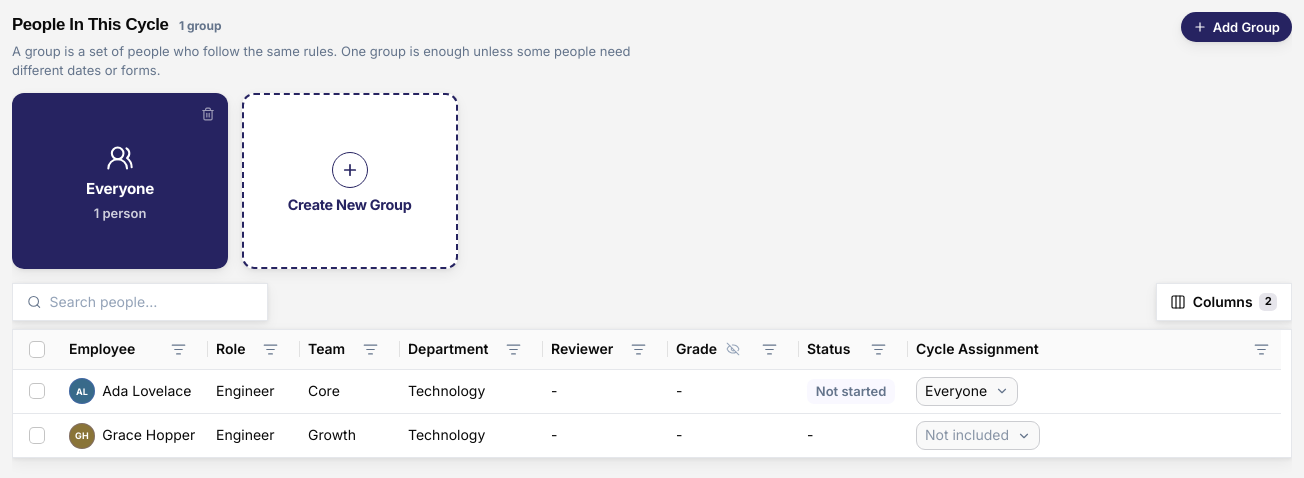
Test: CycleGroupsSection › filters the people table from the search field
Type "ada" into the search field labelled "Search people" at point(150, 302), box [48,290,253,313]
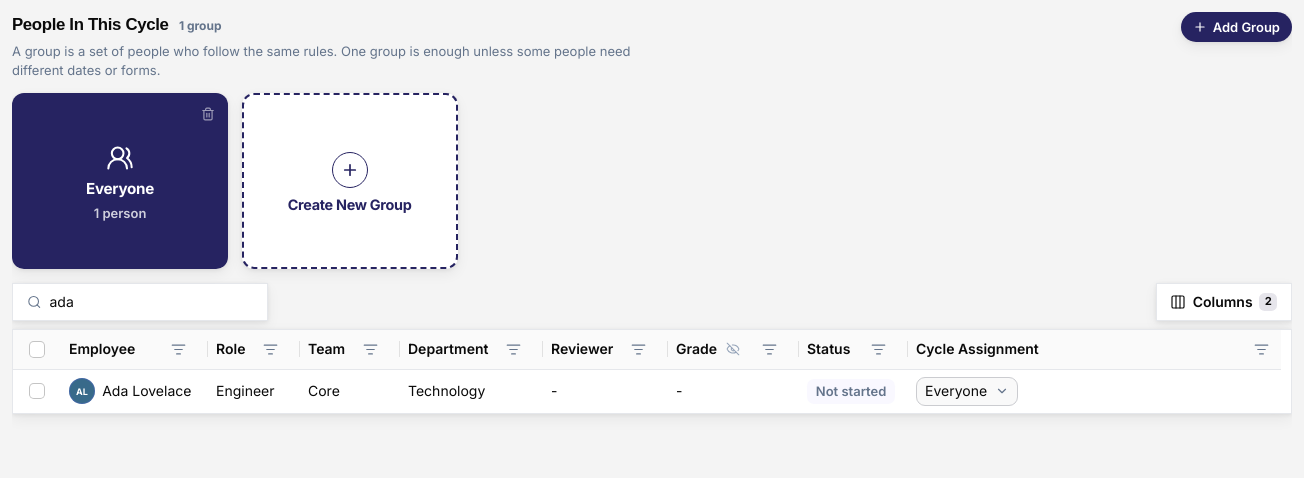
Expected: the text "Ada Lovelace" is shown, [102,382,192,401]
Expected: the text "Grace Hopper" is gone
